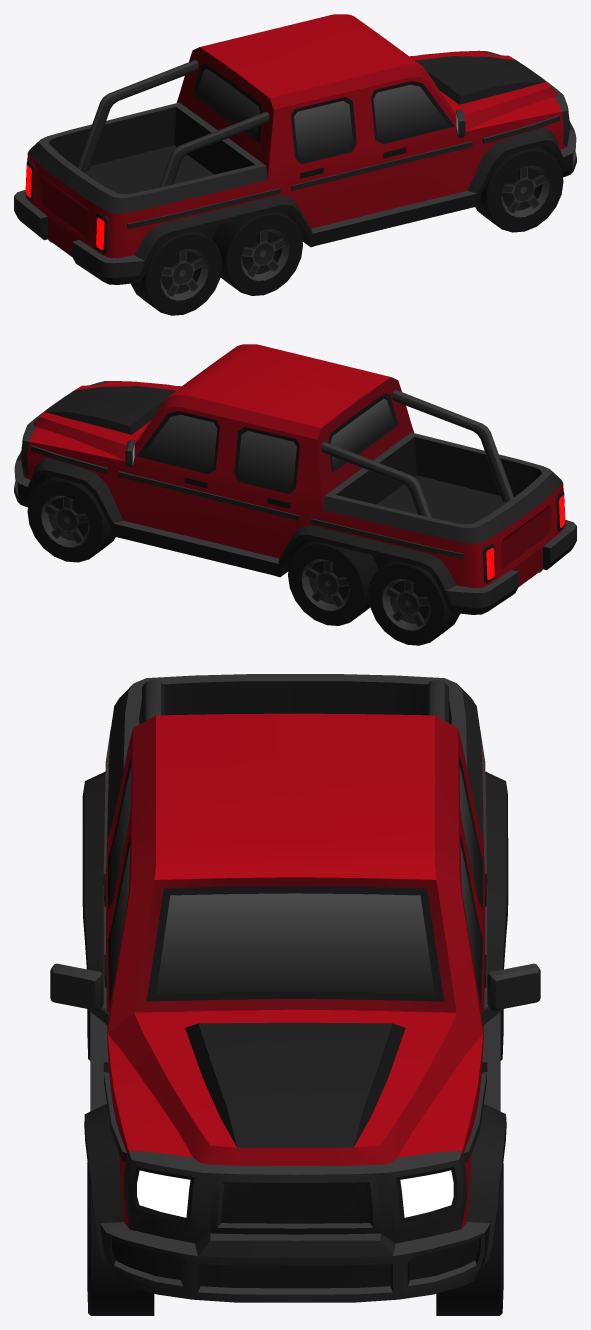
The model's file is Car_022.glb.
The picture shows the model from 3 angles, top to bottom: view 1: azimuth 30°, elevation 25°; view 2: azimuth 150°, elevation 25°; view 3: azimuth 270°, elevation 25°; orthographic projection. The views are drawn at different scales.
Parts seen in each view (by area): view 1: Car_022, wheel_3_Car_022_Wheel_2R, wheel_1_Car_022_Wheel_1R, wheel_5_Car_022_Wheel_3R; view 2: Car_022, wheel_2_Car_022_Wheel_2L, wheel_0_Car_022_Wheel_1L, wheel_4_Car_022_Wheel_3L; view 3: Car_022, wheel_0_Car_022_Wheel_1L, wheel_1_Car_022_Wheel_1R.
Boxes of the visible parts, x1,y1,x2,y2 form: Car_022: (14, 14, 576, 284); wheel_3_Car_022_Wheel_2R: (212, 210, 302, 295); wheel_1_Car_022_Wheel_1R: (475, 146, 563, 232); wheel_5_Car_022_Wheel_3R: (131, 230, 222, 315); Car_022: (14, 344, 576, 614); wheel_2_Car_022_Wheel_2L: (288, 540, 378, 625); wheel_0_Car_022_Wheel_1L: (27, 476, 115, 562); wheel_4_Car_022_Wheel_3L: (368, 560, 459, 645); Car_022: (50, 674, 540, 1302); wheel_0_Car_022_Wheel_1L: (436, 1163, 503, 1315); wheel_1_Car_022_Wheel_1R: (87, 1162, 154, 1315).
Bounding box in the file's own units: 5.3 × 1.84 × 2.27.
Materials: 2 (2 with a texture image).
